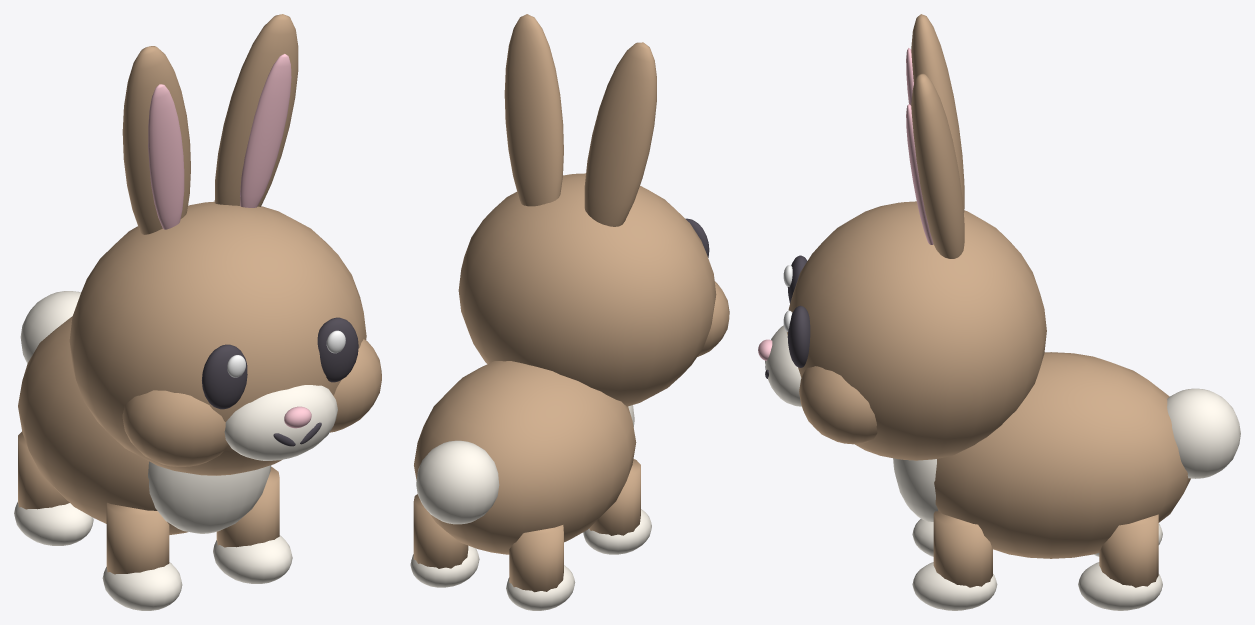
Rendered from hewan_kelinci.fbx.
The picture shows the model from 3 angles, left to right: view 1: azimuth 30°, elevation 25°; view 2: azimuth 150°, elevation 25°; view 3: azimuth 270°, elevation 25°; orthographic projection. The views are drawn at different scales.
Parts seen in each view (by area): view 1: PetBody, PetLight, PetPink, PetDark, PetWhite; view 2: PetBody, PetLight; view 3: PetBody, PetLight, PetPink, PetDark.
Part boxes in pixels (x1,y1,x2,y2): PetBody: (18, 14, 381, 574); PetLight: (14, 291, 337, 610); PetPink: (148, 54, 311, 428); PetDark: (202, 317, 358, 446); PetWhite: (227, 330, 345, 377); PetBody: (413, 14, 729, 592); PetLight: (410, 405, 651, 610); PetBody: (787, 14, 1190, 587); PetLight: (765, 325, 1240, 610); PetPink: (758, 48, 933, 360); PetDark: (765, 255, 810, 378).
Size of the model in its own units: 1.84 by 3.85 by 3.14.
